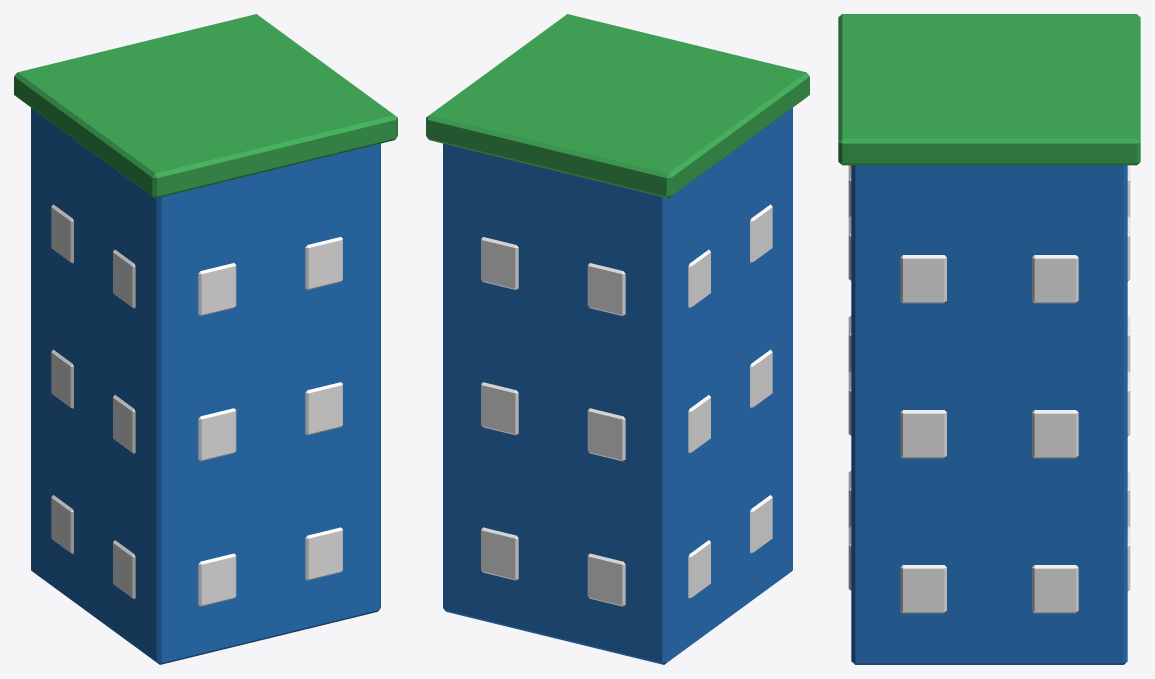
File: building_mid.glb
The picture shows the model from 3 angles, left to right: view 1: azimuth 30°, elevation 25°; view 2: azimuth 150°, elevation 25°; view 3: azimuth 270°, elevation 25°; orthographic projection. The views are drawn at different scales.
Visible parts, largest first — view 1: building_mid; view 2: building_mid; view 3: building_mid.
Part boxes in pixels (x1,y1,x2,y2): building_mid: [14, 14, 397, 664]; building_mid: [426, 14, 809, 664]; building_mid: [838, 14, 1140, 664].
Size of the model in its own units: 0.46 by 0.8925 by 0.46.
